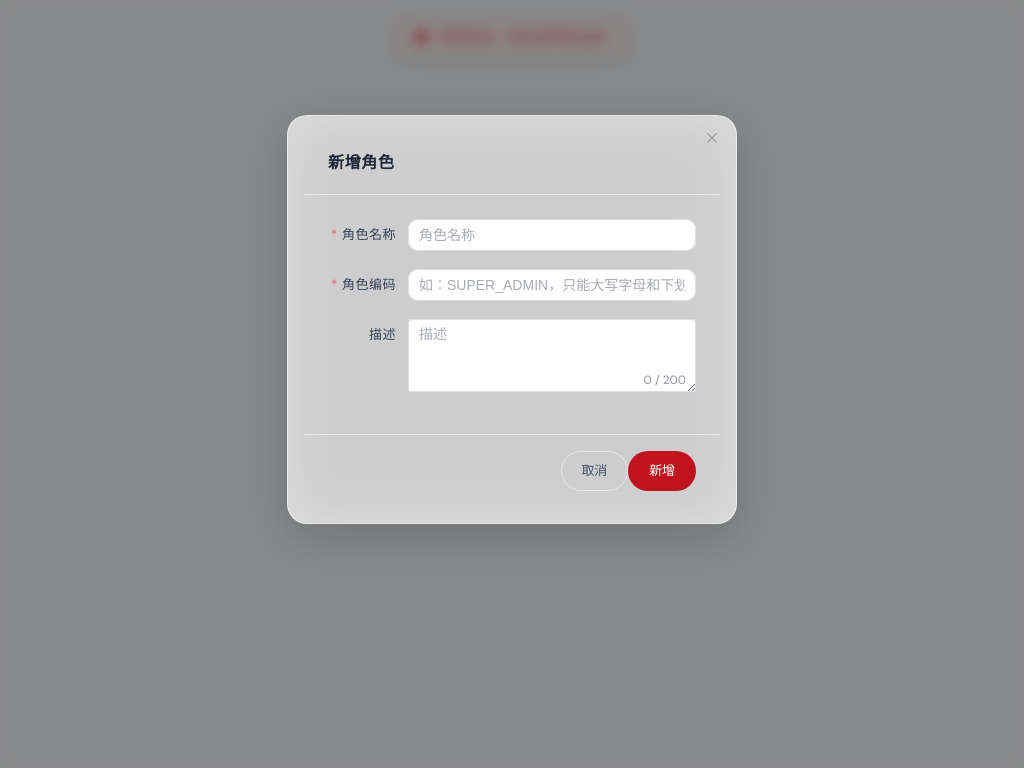
RoleFormDialog 角色编码即时归一 › 下划线保留、数字剔除（数字不是合法编码字符）
This screenshot has width=1024, height=768.
Type "ADMIN_role2" into the field with id "roleCode". click: coordinates (552, 285)
box: [419,270,685,300]
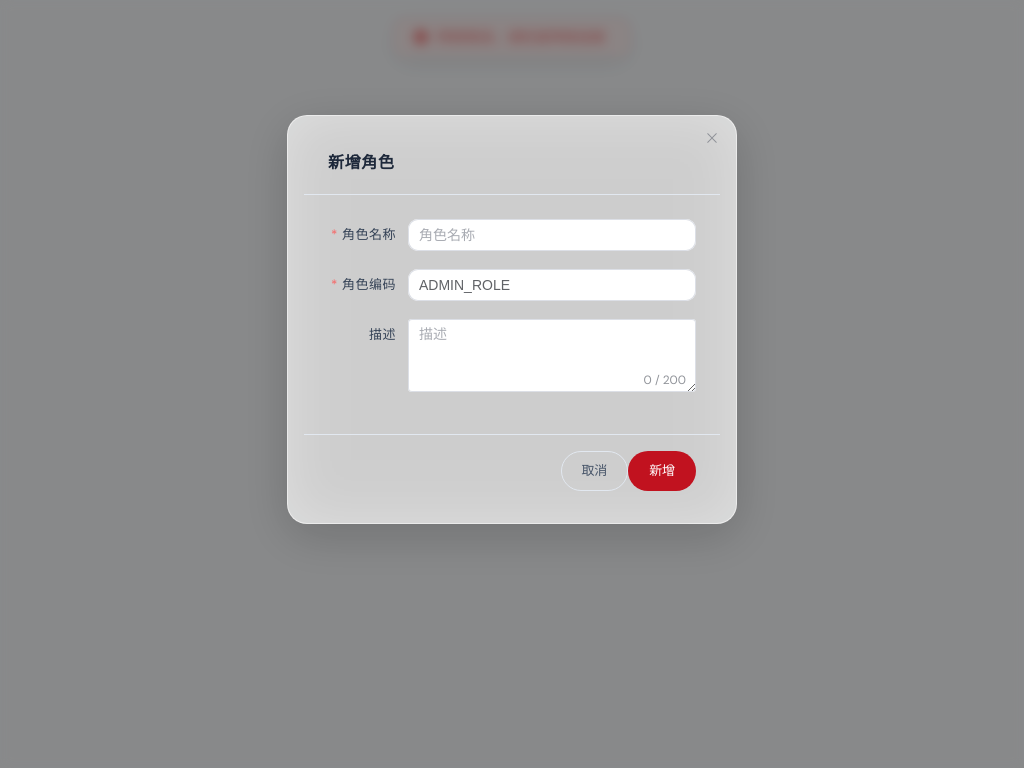
Expected: the field with id "roleCode" holds "ADMIN_ROLE", [419,270,685,300]
